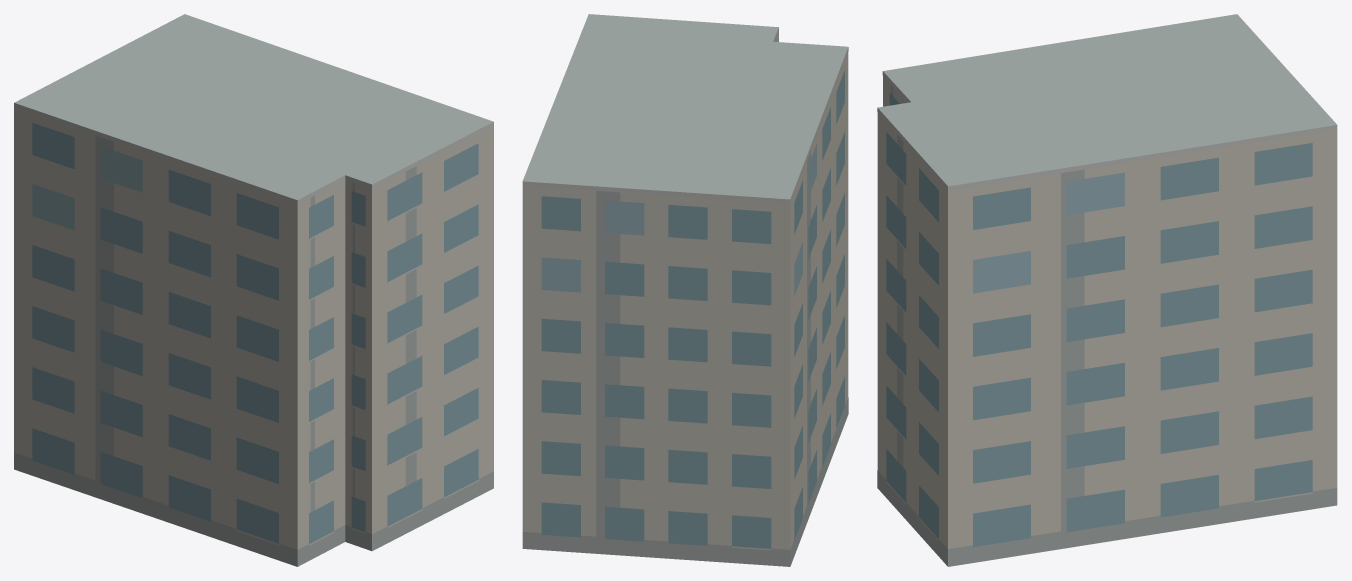
The model's file is survey-upis-32867637.glb.
The picture shows the model from 3 angles, left to right: view 1: azimuth 30°, elevation 25°; view 2: azimuth 150°, elevation 25°; view 3: azimuth 270°, elevation 25°; orthographic projection. The views are drawn at different scales.
Visible parts, largest first — view 1: survey-upis-32867637.tmp; view 2: survey-upis-32867637.tmp; view 3: survey-upis-32867637.tmp.
Boxes of the visible parts, x1,y1,x2,y2 form: survey-upis-32867637.tmp: [14, 14, 493, 566]; survey-upis-32867637.tmp: [522, 14, 848, 566]; survey-upis-32867637.tmp: [877, 14, 1337, 566].
Bounding box in the file's own units: 19.45 × 20 × 21.92.
